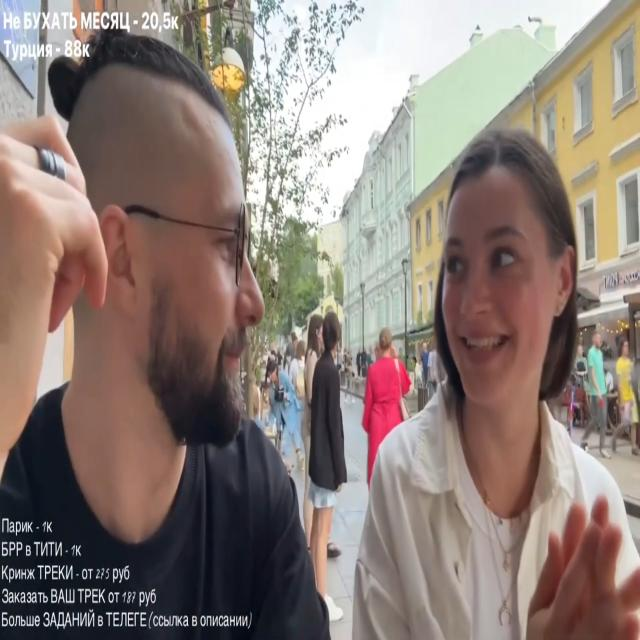Person: (0, 25, 366, 632), (357, 117, 640, 638), (301, 317, 348, 612), (361, 328, 413, 482), (584, 334, 612, 452), (614, 338, 640, 460)
